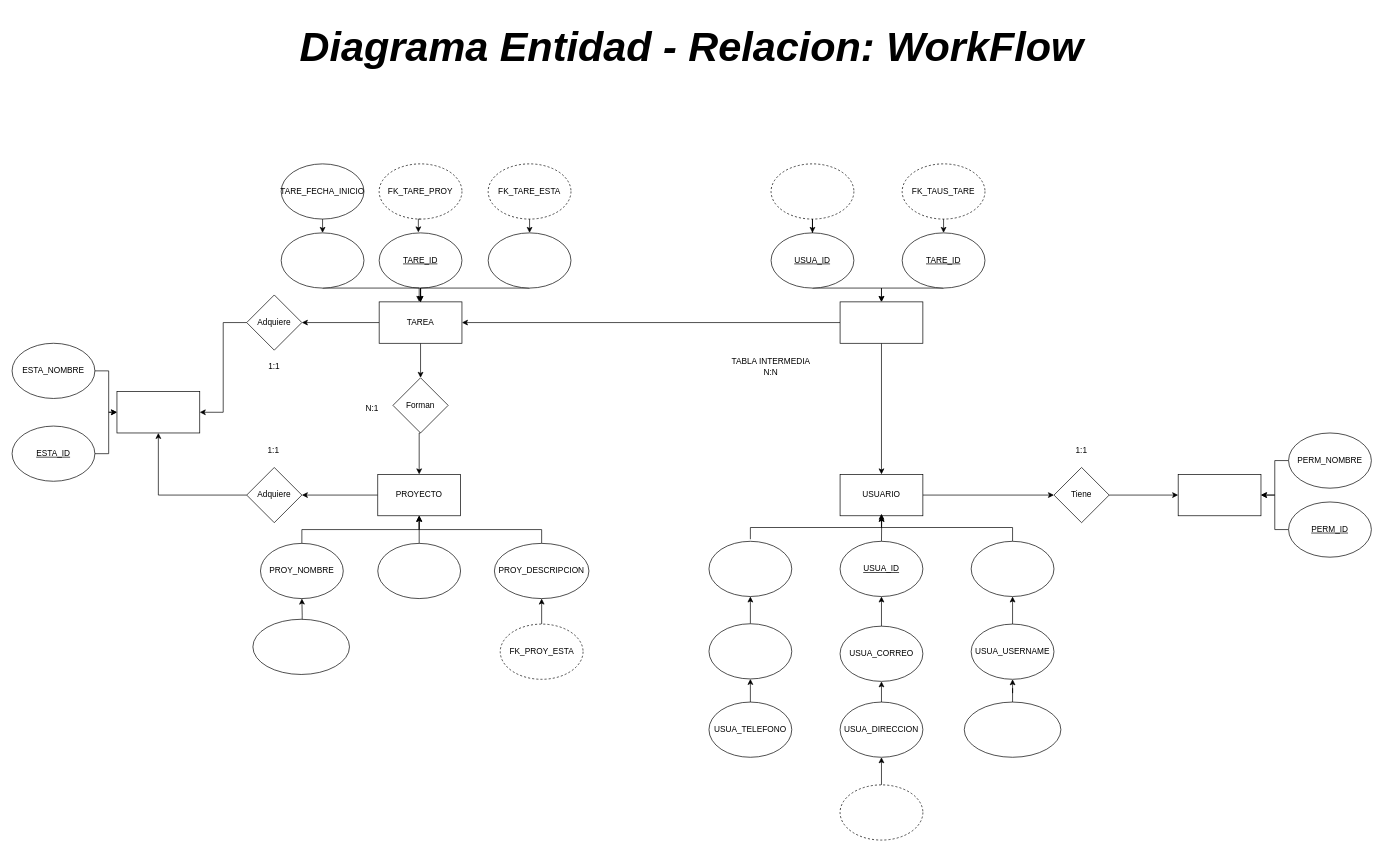
The diagram is 1383 pixels wide and 852 high, and some of its shapes have lost their labels. Here are the shapes that lost their labels. From the top down, the centre of each, then its label:
At (812,191): "FK_TAUS_USUA".
At (322,260): "TARE_DESCRIPCION".
At (529,260): "TARE_NOMBRE".
At (881,322): "TAREA_USUARIO".
At (158,412): "ESTADO".
At (1219,495): "PERMISO".
At (419,571): "PROY_ID".
At (750,569): "USUA_CEDULA".
At (1012,569): "USUA_NOMBRE".
At (300,646): "PROY_FECHA_INICIO".
At (750,651): "USUA_CONTRASENA".
At (1012,729): "USUA_PRIMER_INICIO".
At (881,812): "FK_USUA_PERM".
